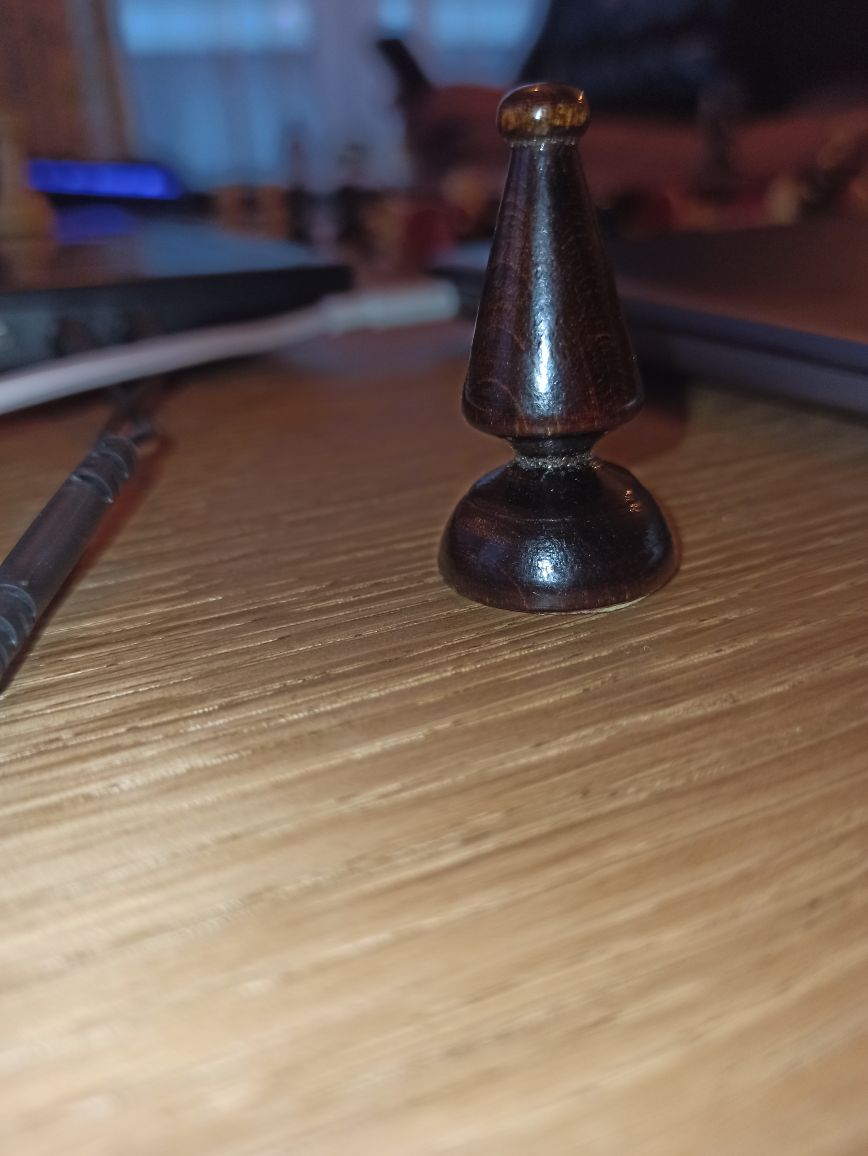bbishop: (437, 81, 681, 615)
